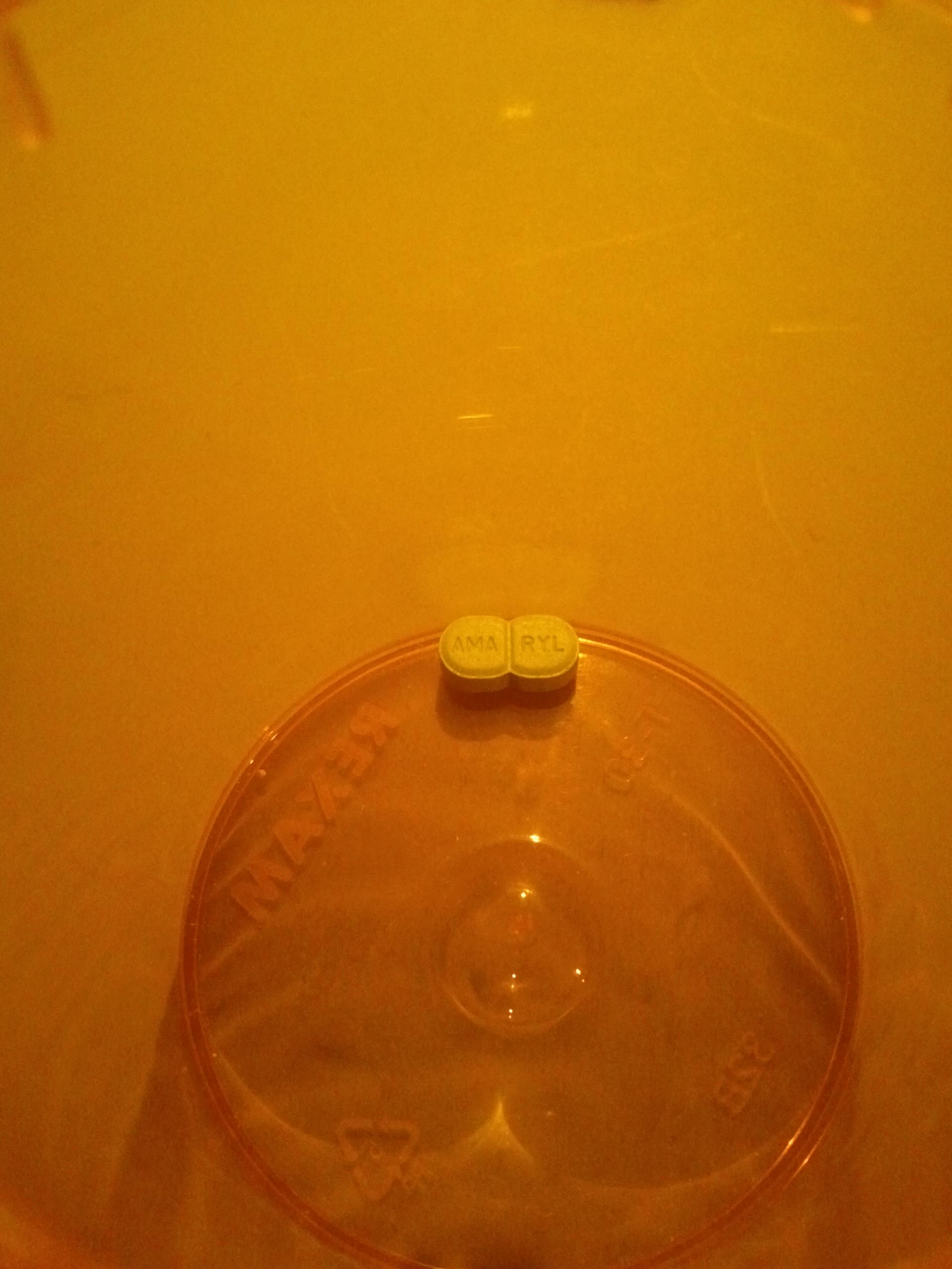Pill: (421, 592, 604, 709)
